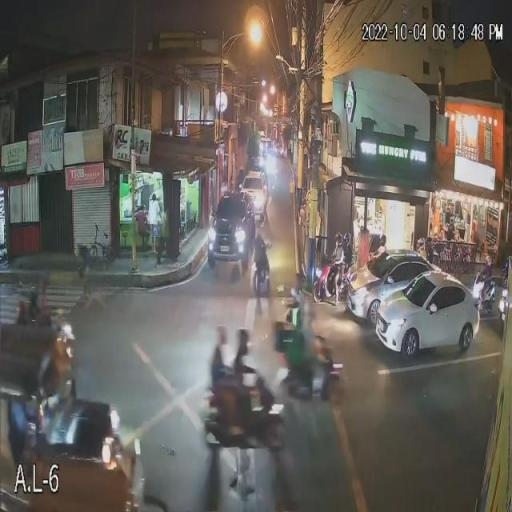helmet: (55, 321, 75, 341), (290, 288, 306, 302), (254, 230, 264, 242), (336, 232, 346, 243)
motorcycle: (203, 367, 288, 452), (30, 318, 81, 412), (280, 336, 344, 404), (470, 273, 508, 324), (312, 258, 348, 306), (250, 254, 272, 299)
rider: (278, 300, 313, 391), (227, 328, 260, 422), (39, 322, 76, 404), (208, 326, 238, 408), (326, 231, 350, 292), (478, 256, 502, 310), (250, 234, 272, 286)
